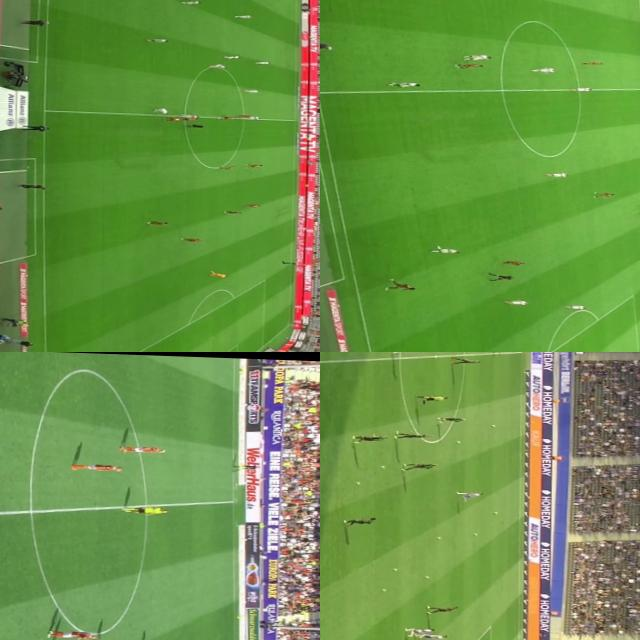ball: (392, 566, 398, 570), (381, 588, 386, 592), (216, 115, 221, 118), (356, 481, 361, 484), (491, 424, 497, 426), (438, 536, 444, 538), (474, 532, 480, 534), (381, 464, 386, 466), (456, 440, 460, 442), (494, 511, 498, 513), (426, 574, 429, 576)
player: (119, 440, 169, 456), (73, 459, 125, 471), (122, 504, 164, 516), (50, 629, 100, 639), (382, 276, 416, 290), (343, 514, 378, 526), (393, 429, 427, 440), (349, 433, 389, 442), (401, 460, 437, 470), (428, 243, 460, 254), (406, 624, 434, 636), (428, 604, 458, 614), (448, 356, 482, 364), (386, 80, 420, 87), (438, 415, 466, 423), (457, 491, 481, 500), (452, 62, 484, 68), (592, 190, 616, 198), (530, 66, 556, 73), (544, 170, 570, 177), (462, 54, 492, 60), (418, 632, 448, 638), (570, 85, 594, 92), (501, 298, 528, 304), (208, 269, 228, 277), (500, 258, 526, 264), (240, 113, 262, 120), (152, 105, 169, 114), (179, 236, 203, 242), (233, 111, 253, 118), (208, 62, 228, 69), (233, 12, 253, 19), (215, 114, 238, 120), (179, 114, 198, 121), (582, 60, 604, 66), (98, 637, 140, 640), (146, 37, 170, 42), (240, 202, 262, 207), (245, 162, 262, 168), (222, 209, 242, 214), (563, 304, 587, 308), (145, 220, 168, 224), (217, 164, 235, 169), (252, 59, 270, 64), (223, 54, 241, 59), (180, 112, 198, 117), (241, 88, 261, 92), (179, 0, 199, 4), (162, 116, 180, 120)
